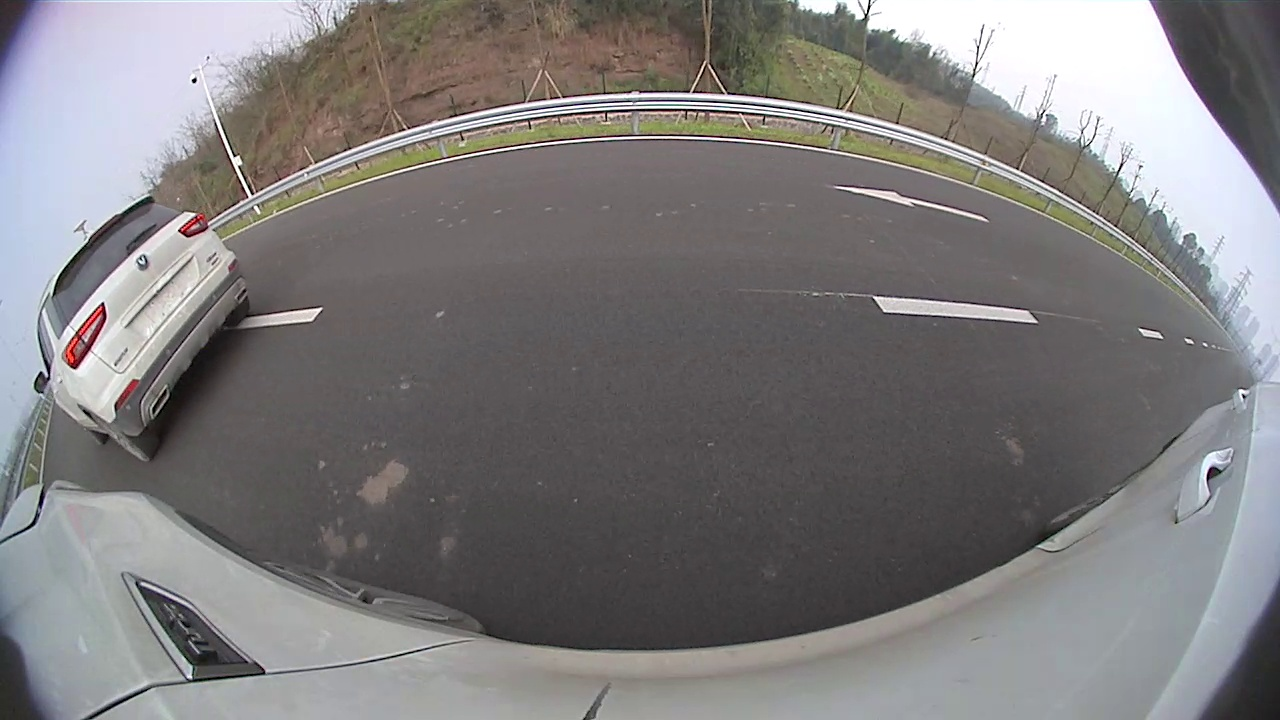car: (401, 96, 618, 256)
front: (601, 172, 616, 215)
rear: (555, 181, 584, 243)
